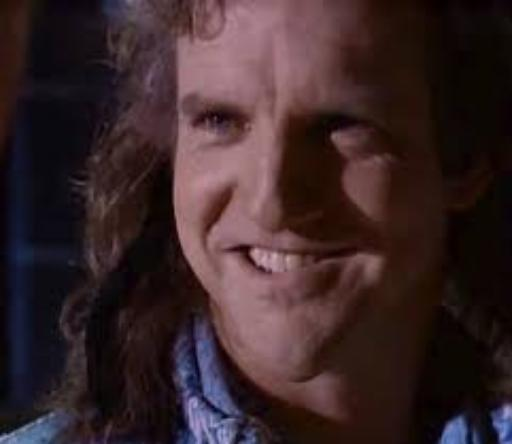left_eye: (317, 108, 378, 141)
left_lip_corner: (326, 242, 362, 264)
right_eye: (191, 107, 253, 136)
right_lip_corner: (224, 238, 255, 266)
